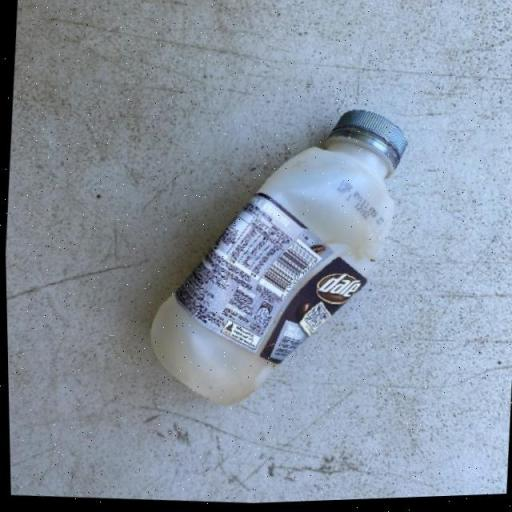plastic: (138, 94, 414, 421)
